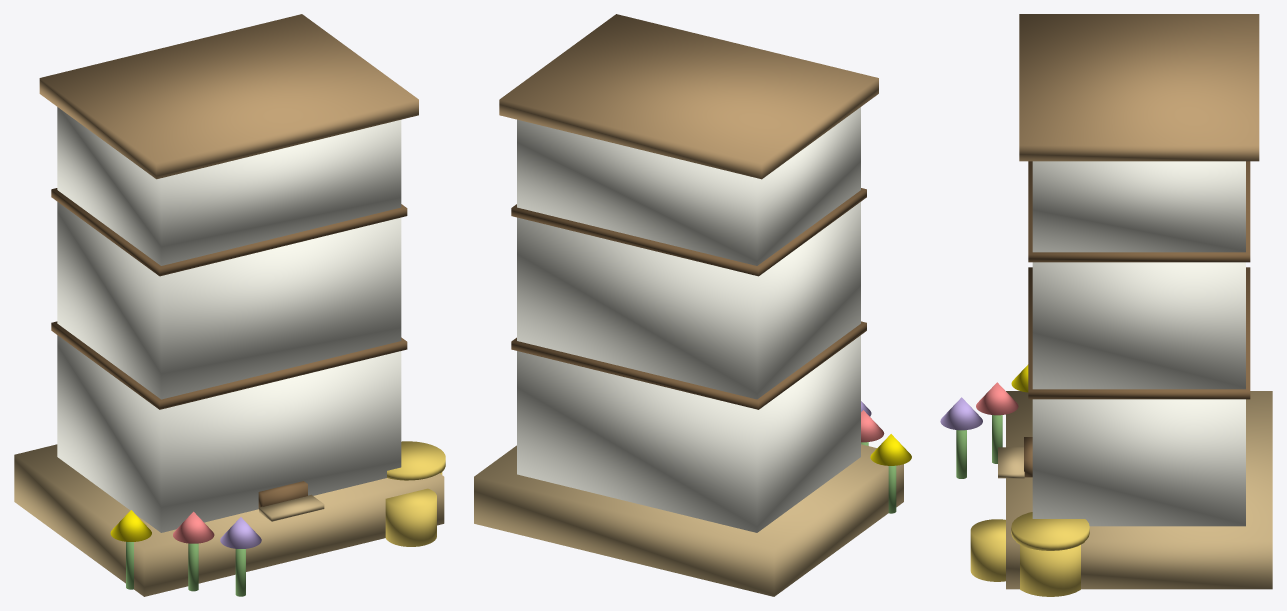
File: apiary.glb
3 renders of one model, left to right at view 1: azimuth 30°, elevation 25°; view 2: azimuth 150°, elevation 25°; view 3: azimuth 270°, elevation 25°, orthographic. The views are drawn at different scales.
Parts seen in each view (by area): view 1: HiveBox2, HiveBox1, WoodenLid, HiveBox3, Shelf, TraySlot1, TraySlot2, HoneyPot2, HoneyPotRim, LandingBoard, Flower0, Flower1 (+2 smaller); view 2: HiveBox2, HiveBox1, WoodenLid, HiveBox3, Shelf, TraySlot1, TraySlot2, Flower1; view 3: WoodenLid, HiveBox2, HiveBox1, HiveBox3, Shelf, TraySlot1, TraySlot2, HoneyPot, HoneyPotRim, HoneyPot2, Flower2, Flower0 (+3 smaller).
Boxes of the visible parts, x1,y1,x2,y2 form: HiveBox2: (57, 202, 401, 399); HiveBox1: (57, 335, 401, 532); WoodenLid: (39, 14, 418, 179); HiveBox3: (57, 107, 401, 265); Shelf: (14, 444, 444, 596); TraySlot1: (51, 321, 407, 409); TraySlot2: (51, 188, 407, 276); HoneyPot2: (385, 488, 436, 546); HoneyPotRim: (387, 441, 445, 480); LandingBoard: (259, 494, 324, 521); Flower0: (173, 511, 214, 543); Flower1: (110, 510, 151, 541); HiveBox2: (517, 202, 860, 399); HiveBox1: (517, 335, 860, 532); WoodenLid: (499, 14, 878, 179); HiveBox3: (517, 107, 860, 265); Shelf: (474, 444, 903, 596); TraySlot1: (511, 321, 866, 409); TraySlot2: (511, 188, 866, 276); Flower1: (870, 434, 911, 465); WoodenLid: (1019, 14, 1259, 161); HiveBox2: (1032, 262, 1245, 389); HiveBox1: (1032, 399, 1245, 526); HiveBox3: (1032, 161, 1245, 252); Shelf: (1006, 391, 1272, 589); TraySlot1: (1028, 267, 1250, 399); TraySlot2: (1028, 161, 1250, 262); HoneyPot: (1020, 545, 1080, 596); HoneyPotRim: (1011, 512, 1089, 550); HoneyPot2: (970, 519, 1005, 581); Flower2: (940, 397, 982, 430); Flower0: (976, 382, 1018, 415).
Size of the model in its own units: 2.24 by 2.7 by 1.87.
